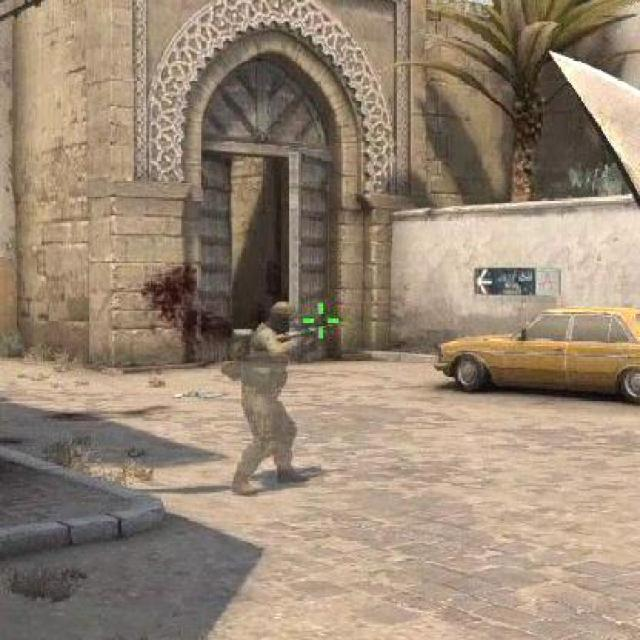CT-Body: (261, 306, 297, 334)
CT-Head: (223, 298, 309, 484)
